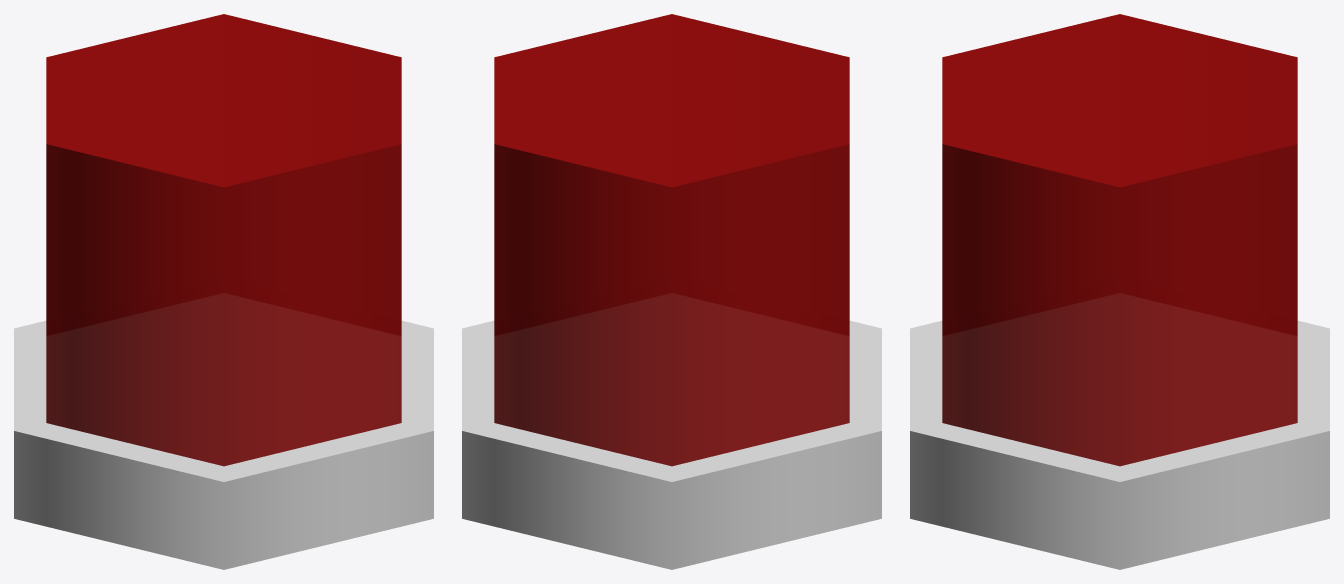
Rendered from Alarm.fbx.
3 renders of one model, left to right at view 1: azimuth 30°, elevation 25°; view 2: azimuth 150°, elevation 25°; view 3: azimuth 270°, elevation 25°, orthographic.
Visible parts, largest first — view 1: Cylinder002, Cylinder001; view 2: Cylinder002, Cylinder001; view 3: Cylinder002, Cylinder001.
Boxes of the visible parts, x1,y1,x2,y2 form: Cylinder002: (46,14,401,466); Cylinder001: (14,320,433,569); Cylinder002: (494,14,849,466); Cylinder001: (462,320,881,569); Cylinder002: (942,14,1297,466); Cylinder001: (910,320,1329,569).
Size of the model in its own units: 19.69 by 16.43 by 17.05.
